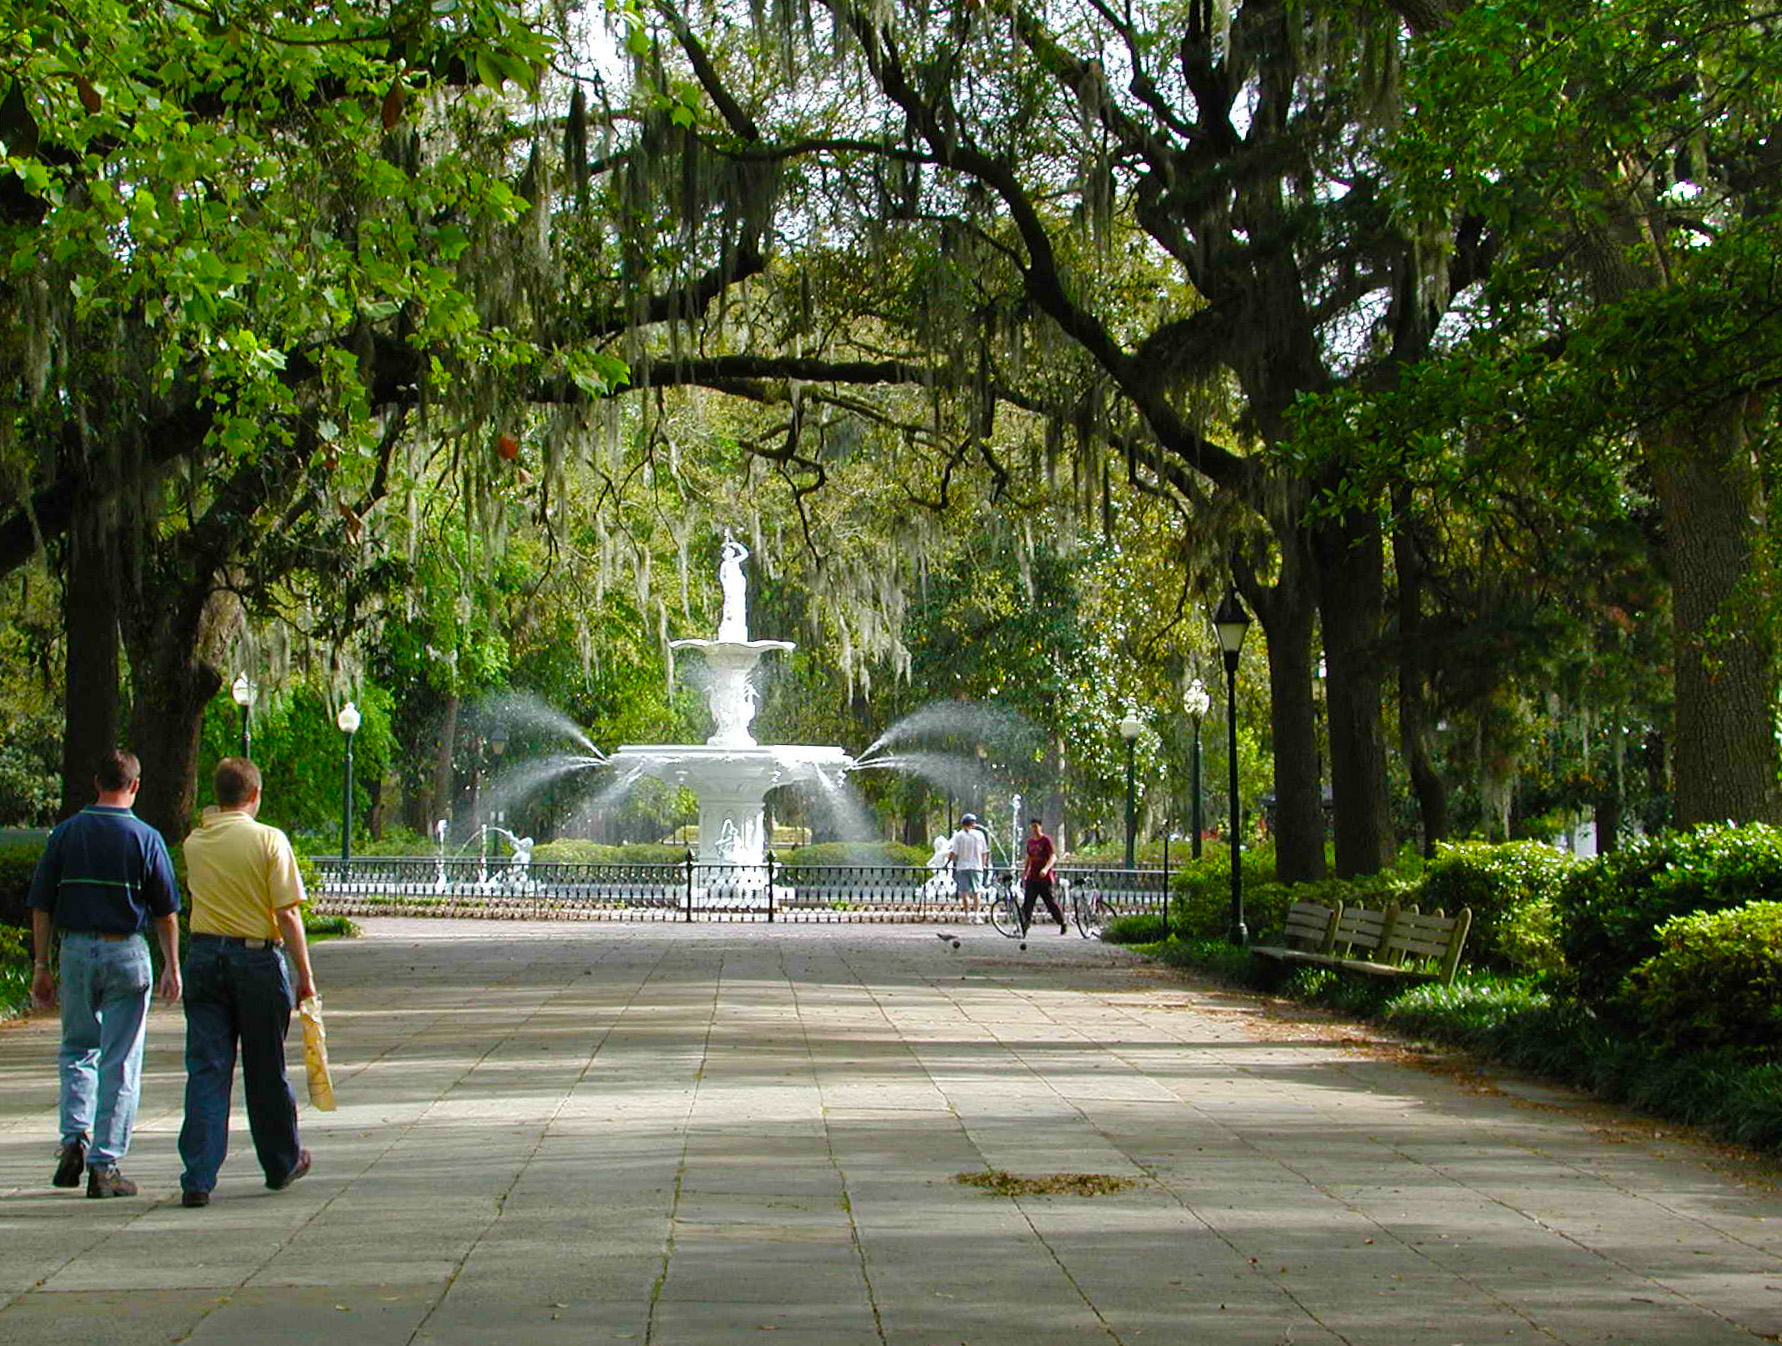Person: (31, 750, 181, 1193), (180, 756, 317, 1206)
